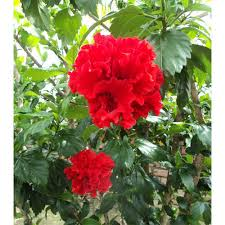hybiscus: (70, 31, 164, 130)
